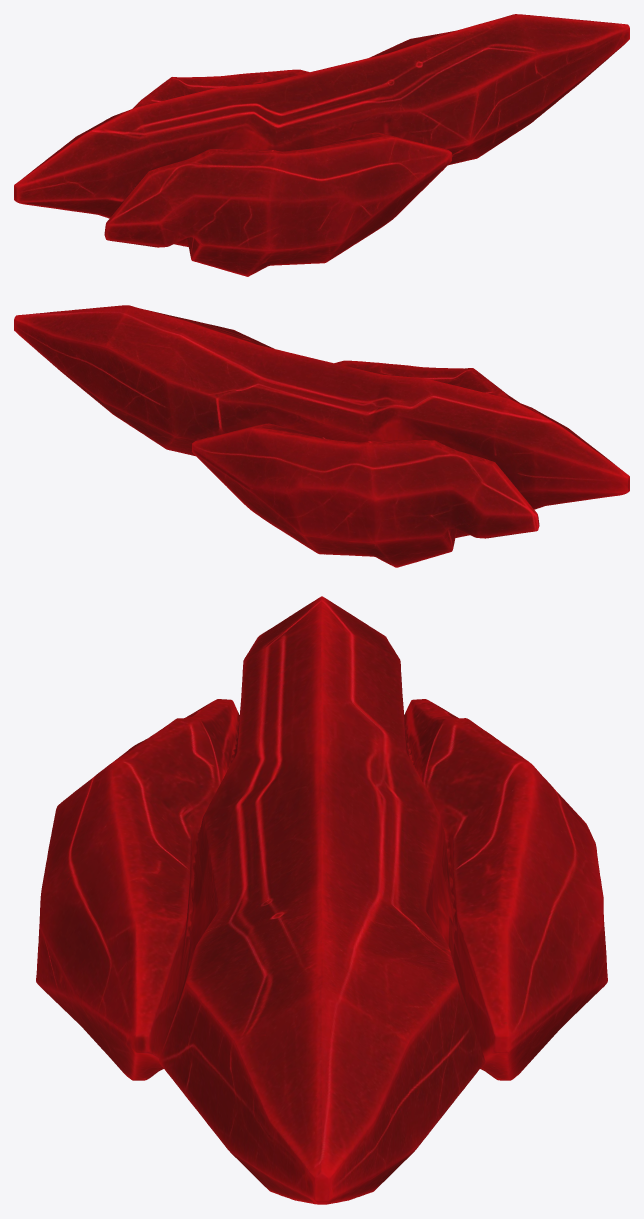
The model's file is ruby_shard.glb.
The picture shows the model from 3 angles, top to bottom: view 1: azimuth 30°, elevation 25°; view 2: azimuth 150°, elevation 25°; view 3: azimuth 270°, elevation 25°; orthographic projection. The views are drawn at different scales.
Bounding box in the file's own units: 1.9 × 0.4782 × 0.7674.
Materials: 1 (1 with a texture image).
